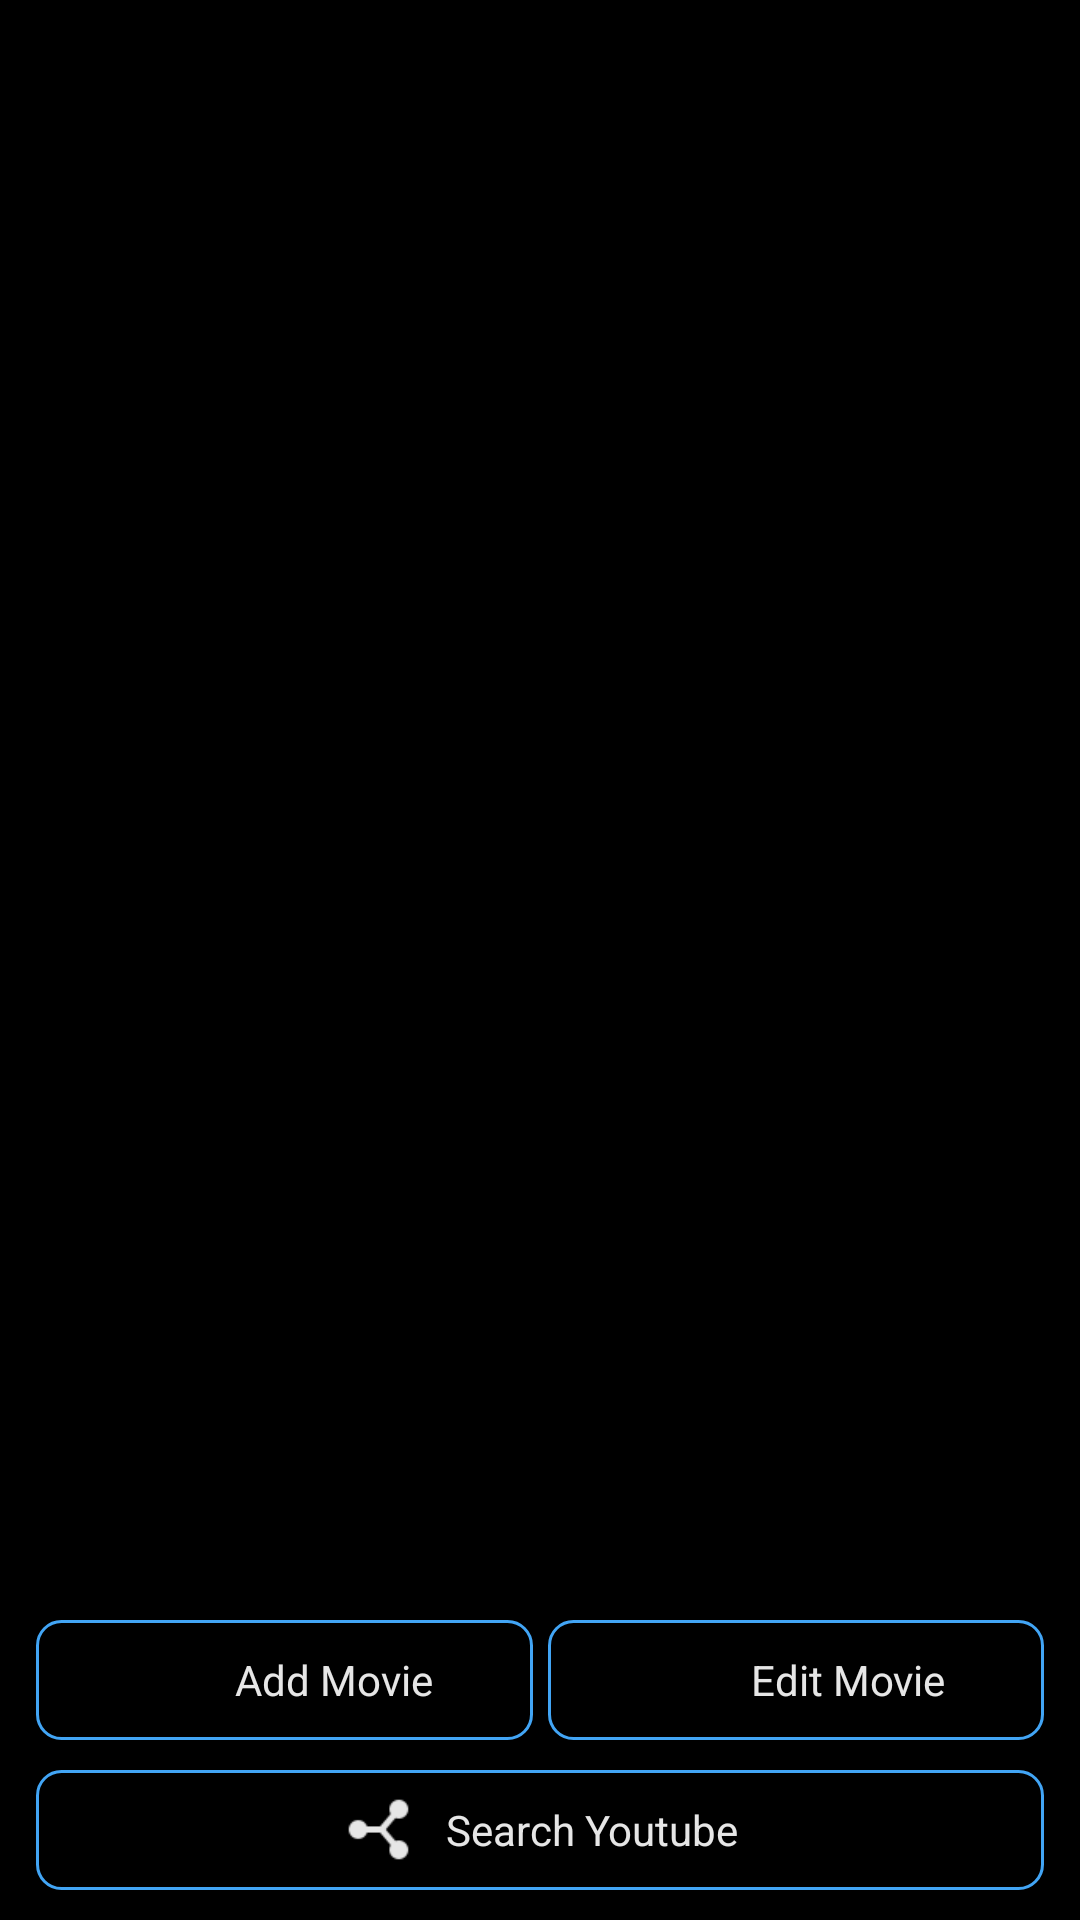

Icons on this 1080*1920 Android screen, each with the point to tap as point (x, y):
connect: point (378, 1829)
